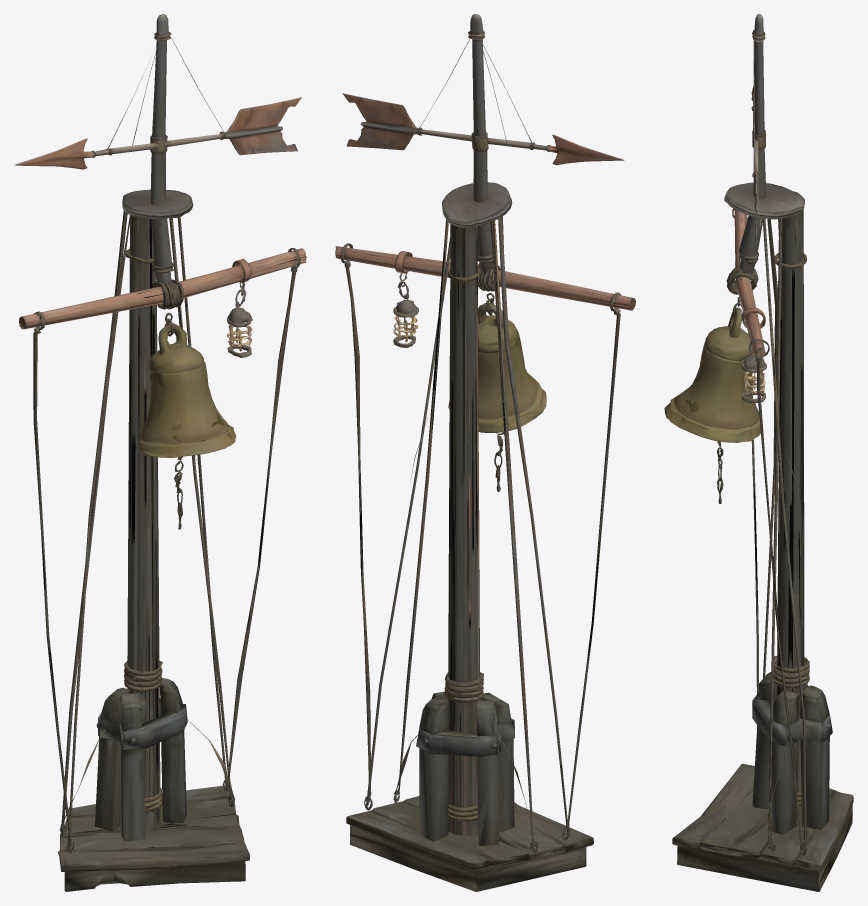
File: bell_mast.fbx
The picture shows the model from 3 angles, left to right: view 1: azimuth 30°, elevation 25°; view 2: azimuth 150°, elevation 25°; view 3: azimuth 270°, elevation 25°; orthographic projection.
Visible parts, largest first — view 1: geometry_0; view 2: geometry_0; view 3: geometry_0.
Part boxes in pixels (x1=…): geometry_0: x1=15, y1=14, x2=306, y2=891; geometry_0: x1=335, y1=14, x2=635, y2=891; geometry_0: x1=664, y1=14, x2=853, y2=891.
Bounding box in the file's own units: 34.42 × 95.12 × 19.63.
Materials: 1 (1 with a texture image).
